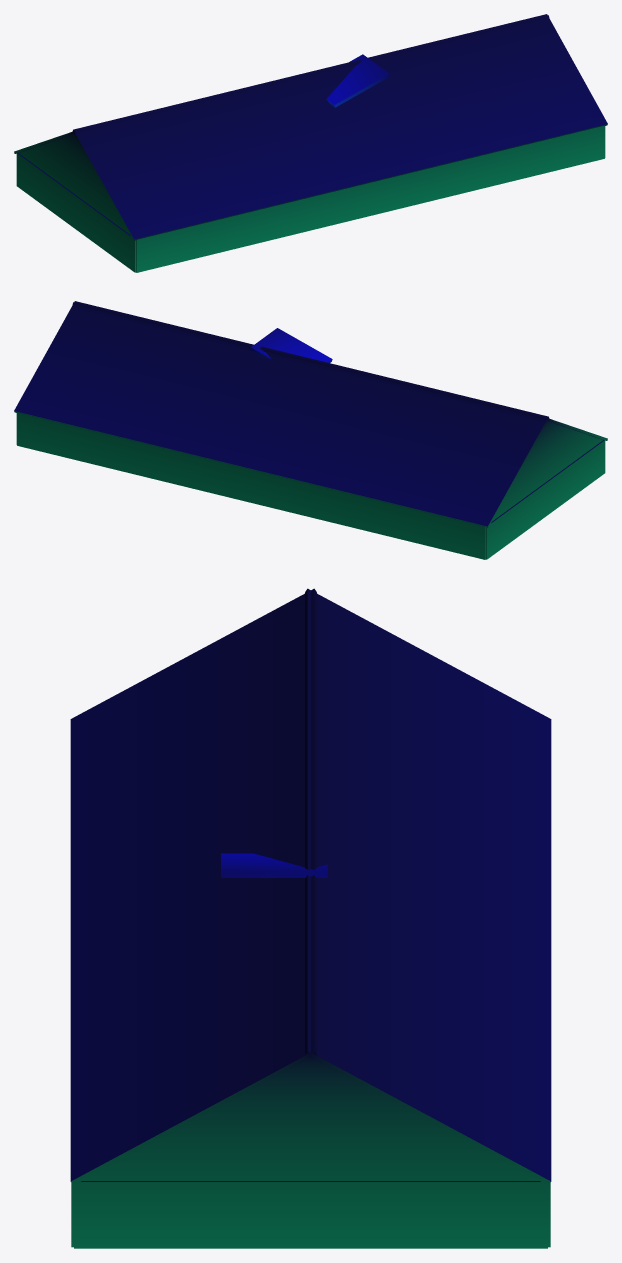
Rendered from longtent_damaged.glb.
3 renders of one model, top to bottom at view 1: azimuth 30°, elevation 25°; view 2: azimuth 150°, elevation 25°; view 3: azimuth 270°, elevation 25°, orthographic. The views are drawn at different scales.
Visible parts, largest first — view 1: lod0; view 2: lod0; view 3: lod0.
Boxes of the visible parts, <box> form: lod0: <box>14,14,607,272</box>; lod0: <box>14,301,607,559</box>; lod0: <box>70,588,551,1248</box>.
Size of what is drawn, in the model's own units: 16.4 by 3.34 by 7.2.
